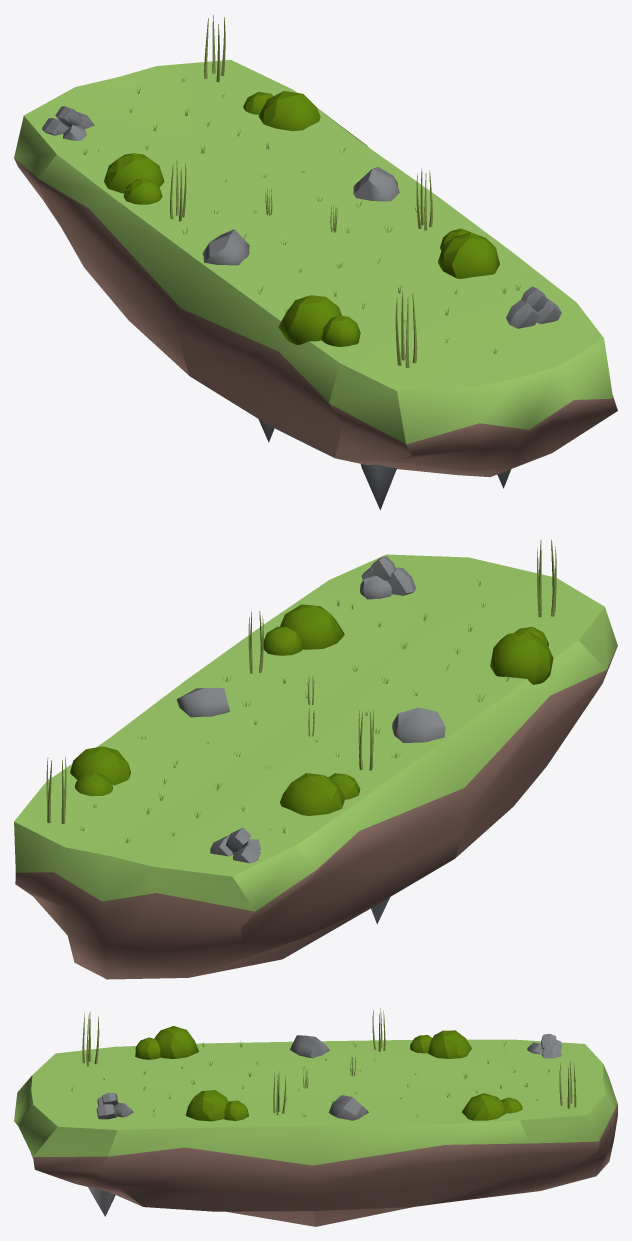
File: long_island_fall_2.fbx
The picture shows the model from 3 angles, top to bottom: view 1: azimuth 30°, elevation 25°; view 2: azimuth 150°, elevation 25°; view 3: azimuth 270°, elevation 25°; orthographic projection. The views are drawn at different scales.
Parts seen in each view (by area): view 1: Island_Long_Spring_2.001; view 2: Island_Long_Spring_2.001; view 3: Island_Long_Spring_2.001.
Part boxes in pixels (x1,y1,x2,y2): Island_Long_Spring_2.001: [14, 14, 617, 510]; Island_Long_Spring_2.001: [14, 539, 617, 979]; Island_Long_Spring_2.001: [14, 1008, 617, 1226].
Bounding box in the file's own units: 7.23 × 6.23 × 17.98.
